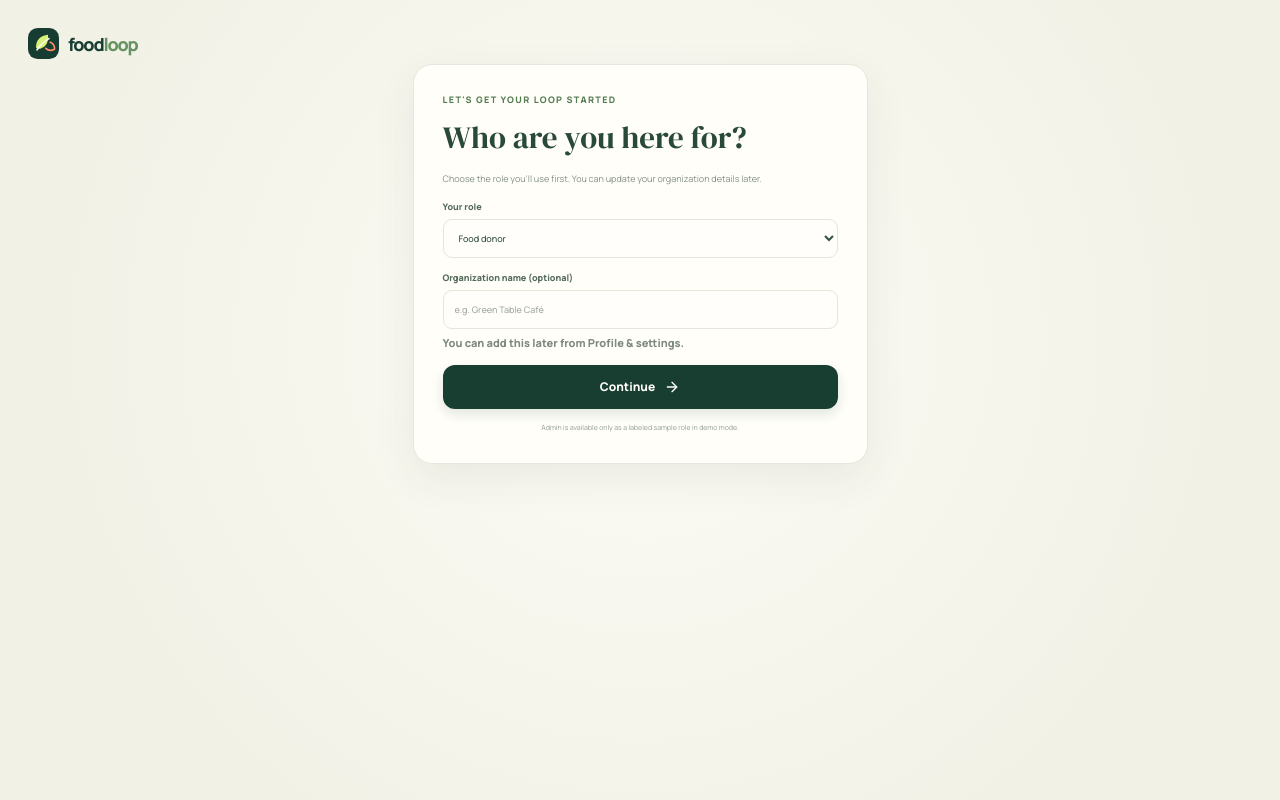
FoodLoop onboarding › saves the selected NGO role and advances without an organization name
The image size is (1280, 800).
Select "NGO / food bank" in the dropdown labelled "Your role" at (640, 239), box top-left (442, 219), bottom-right (838, 258)
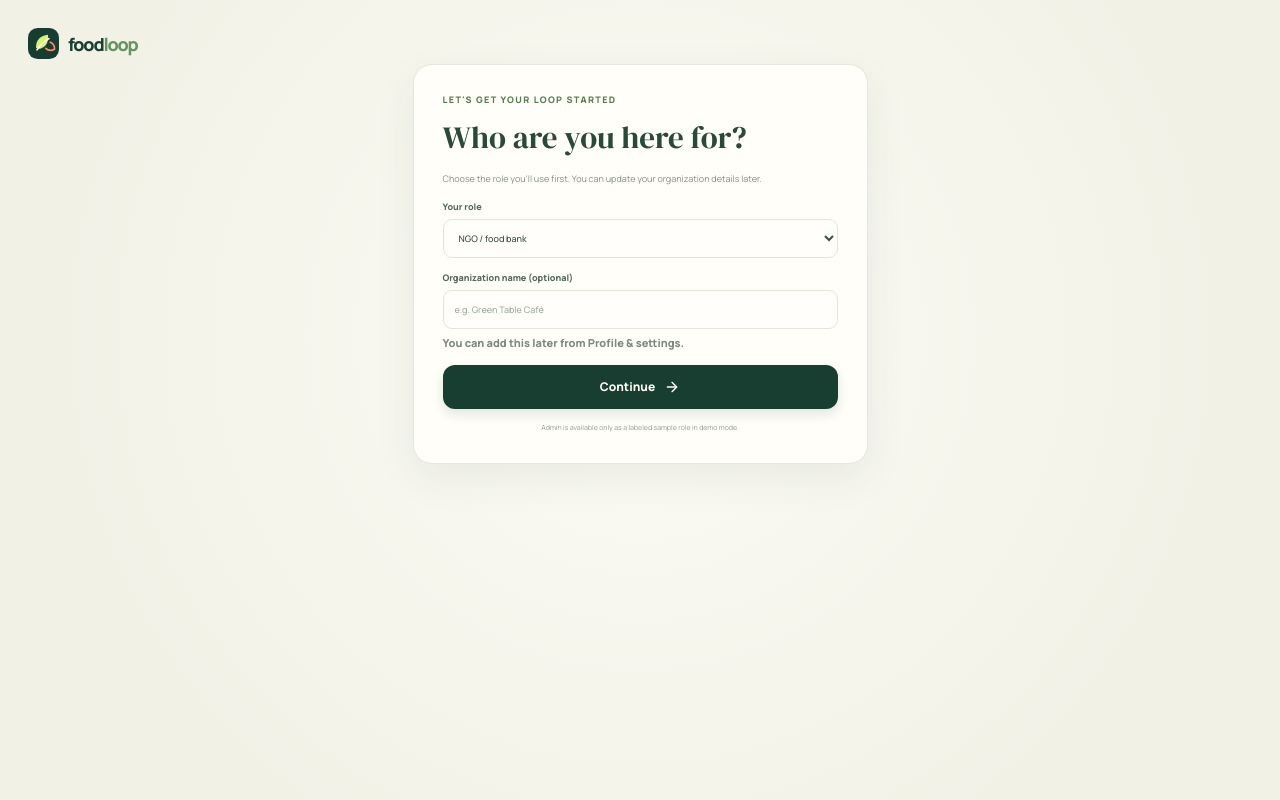
Click the button "Continue" at (640, 387), box top-left (442, 365), bottom-right (838, 409)
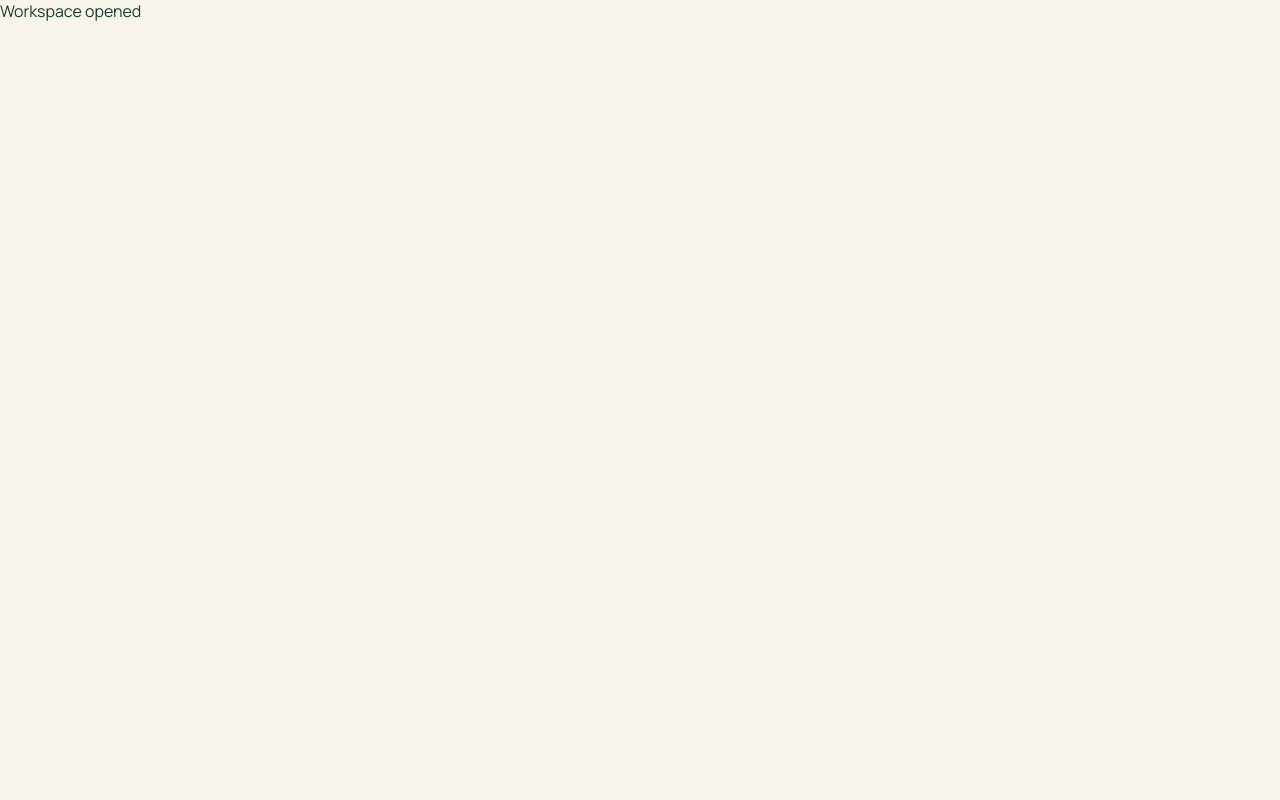
Now the text "Workspace opened" is shown, box top-left (0, 0), bottom-right (141, 22)
